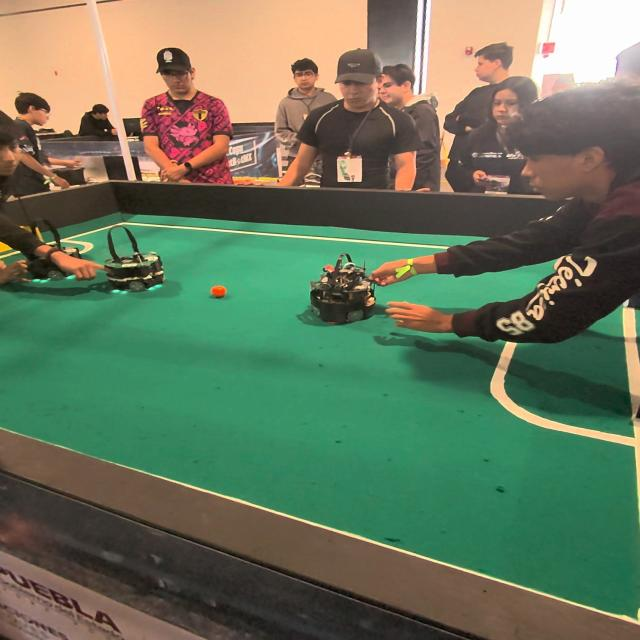Robot: (15, 215, 84, 304), (304, 251, 380, 330), (105, 223, 170, 301)
pelota: (211, 288, 227, 300)
